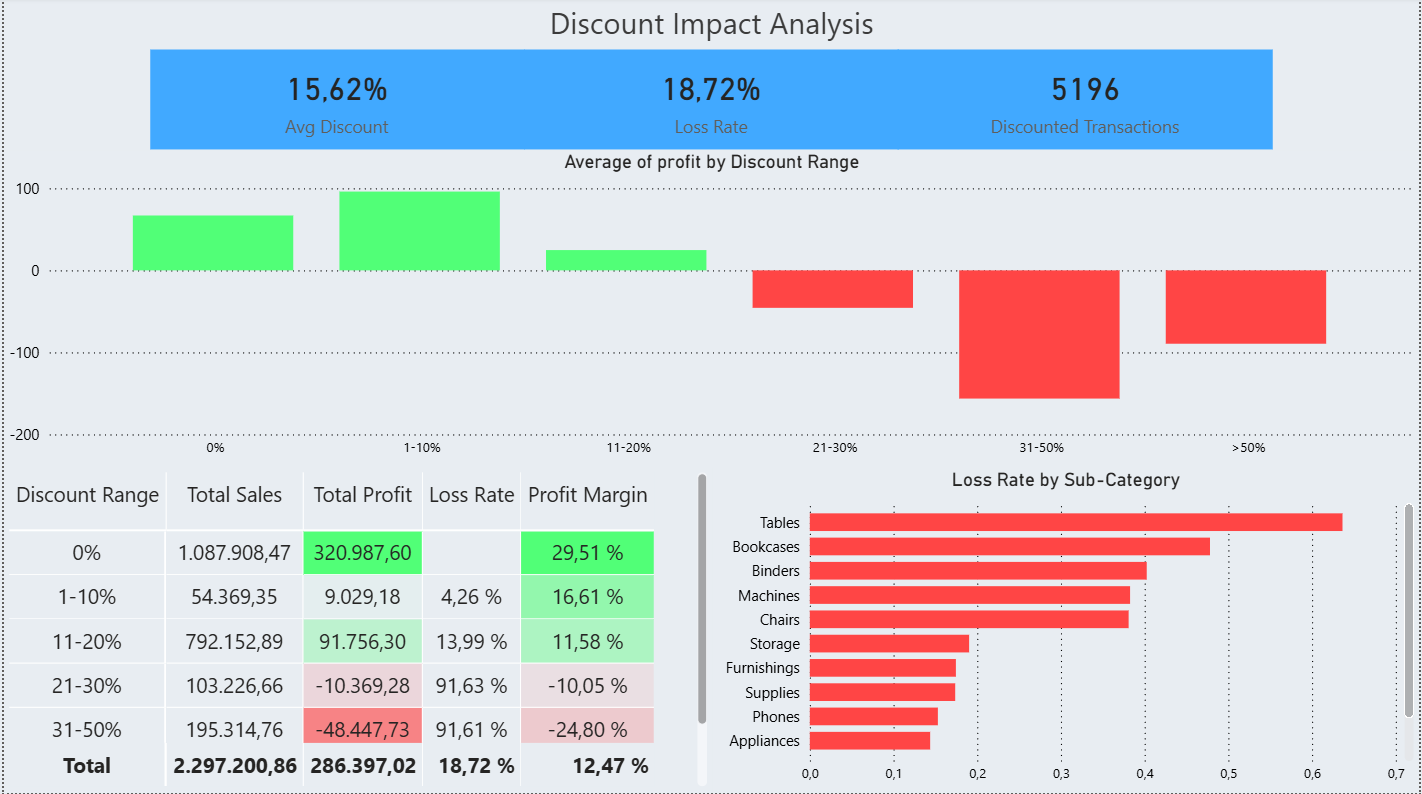

Layout of this report page (visuals, bound fields, positions):
{"tool":"powerbi","page":{"name":"Discount Analysis","canvas":[1280,720],"ordinal":2},"visuals":[{"type":"textbox","box":[0,0,1280.3,49.4],"z":0},{"type":"card","fields":{"Values":["superstore_clean.Avg Discount"]},"box":[131.7,48,338,90],"z":0,"group":"g1"},{"type":"group","id":"g1","title":"Group 1","box":[131.7,48,1015.4,90],"z":1000},{"type":"card","fields":{"Values":["superstore_clean.Loss Rate"]},"box":[469.3,48,338.9,90],"z":1000,"group":"g1"},{"type":"card","fields":{"Values":["superstore_clean.Discounted Transactions"]},"box":[808.2,48,338.9,90],"z":2000,"group":"g1"},{"type":"lineClusteredColumnComboChart","fields":{"Category":["superstore_clean.Discount Range"],"Y":["Avg(superstore_clean.profit)","select"]},"box":[0,138.6,1280.3,286.8],"z":2000},{"type":"pivotTable","title":"Profit by Region × Category","fields":{"Values":["superstore_clean.Total Sales","superstore_clean.Total Profit","superstore_clean.Loss Rate","superstore_clean.Profit Margin"],"Rows":["superstore_clean.Discount Range"]},"box":[0,425.4,640.8,293.7],"z":3000},{"type":"clusteredBarChart","title":"Loss Rate by Sub-Category","fields":{"Category":["superstore_clean.sub_category"],"Y":["superstore_clean.Loss Rate"]},"box":[641,426,639,294],"z":4000}]}

Visuals, with their boxes in screenshot pixels (x1, y1, x2, y2), scaled from the page's 1280x720 canvas onto the 1422x794 screenshot:
textbox: [0,0,1421,54]
card - superstore_clean.Avg Discount: [146,53,522,152]
"Group 1" group: [146,53,1274,152]
card - superstore_clean.Loss Rate: [521,53,898,152]
card - superstore_clean.Discounted Transactions: [898,53,1274,152]
lineClusteredColumnComboChart - superstore_clean.Discount Range x Avg(superstore_clean.profit): [0,153,1421,469]
"Profit by Region × Category" pivotTable: [0,469,712,793]
"Loss Rate by Sub-Category" clusteredBarChart: [712,470,1421,793]
